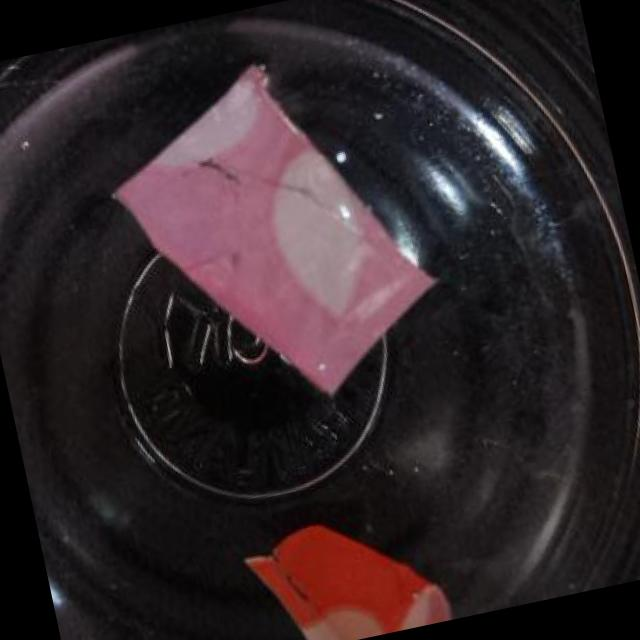fiber: (83, 28, 458, 437), (234, 490, 453, 640)
